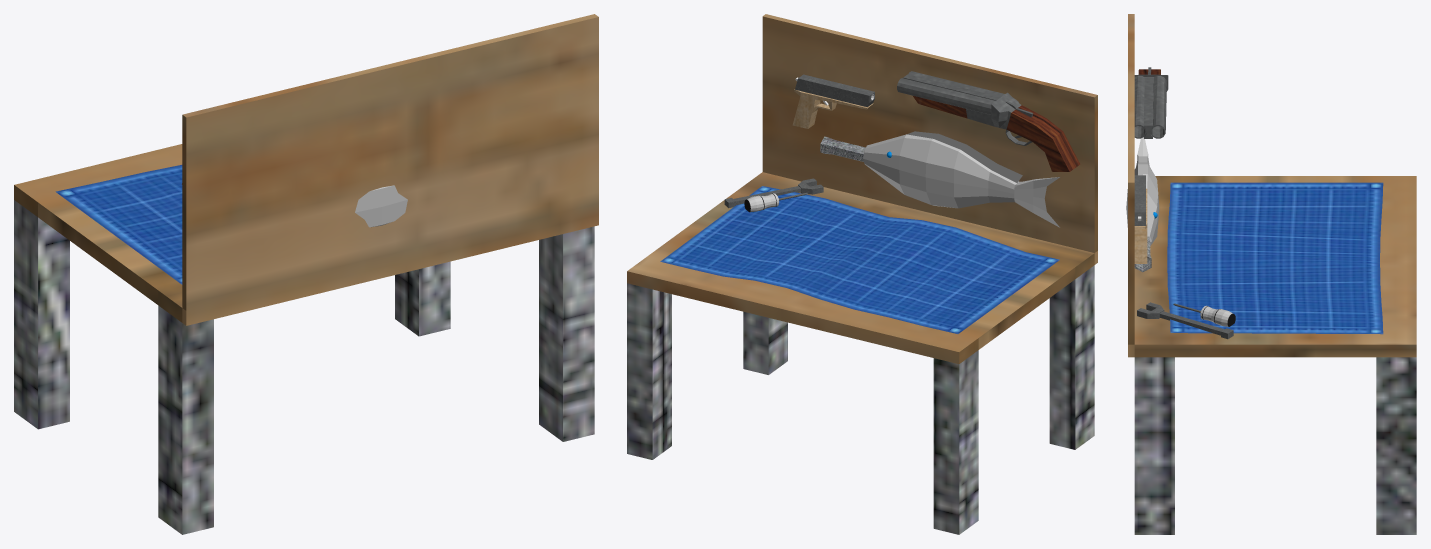
File: Gun Bench.fbx
The picture shows the model from 3 angles, left to right: view 1: azimuth 30°, elevation 25°; view 2: azimuth 150°, elevation 25°; view 3: azimuth 270°, elevation 25°; orthographic projection. The views are drawn at different scales.
Visible parts, largest first — view 1: Cube, blueprint 128, fish; view 2: Cube, blueprint 128, fish, Case, Barrel, top, base, Cube.001, barrel.001, Cylinder; view 3: Cube, blueprint 128, Barrel, fish, Cube.001, base, top, Cylinder.
Part boxes in pixels (left/top/right/bottom): Cube: left=14, top=14, right=598, bottom=534; blueprint 128: left=55, top=165, right=182, bottom=284; fish: left=355, top=185, right=407, bottom=227; Cube: left=627, top=14, right=1097, bottom=534; blueprint 128: left=660, top=186, right=1059, bottom=333; fish: left=863, top=131, right=1059, bottom=227; Case: left=913, top=92, right=1080, bottom=171; Barrel: left=897, top=71, right=1004, bottom=114; top: left=795, top=74, right=874, bottom=107; base: left=792, top=89, right=873, bottom=128; Cube.001: left=724, top=178, right=823, bottom=208; barrel.001: left=820, top=136, right=865, bottom=161; Cylinder: left=744, top=193, right=807, bottom=212; Cube: left=1128, top=14, right=1416, bottom=534; blueprint 128: left=1167, top=182, right=1383, bottom=334; Barrel: left=1134, top=75, right=1166, bottom=138; fish: left=1126, top=137, right=1159, bottom=245; Cube.001: left=1137, top=302, right=1233, bottom=339; base: left=1134, top=188, right=1147, bottom=263; top: left=1134, top=175, right=1145, bottom=225; Cylinder: left=1173, top=303, right=1235, bottom=326.
Size of the model in its own units: 489 by 476 by 356.
